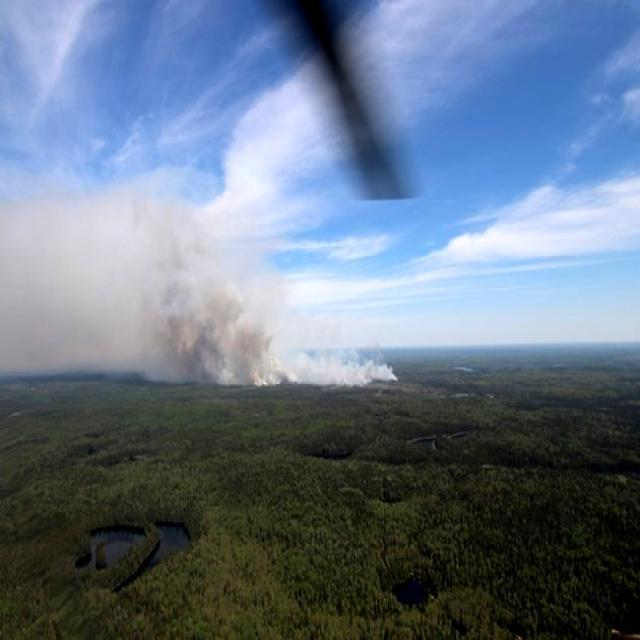Smoke: (0, 162, 295, 406)
